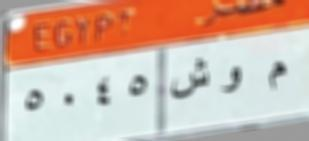0: (55, 82, 77, 120)
4: (91, 72, 113, 110)
5: (123, 70, 151, 104), (20, 82, 46, 117)
meem: (263, 59, 292, 98)
sheen: (167, 56, 213, 103)
waw: (217, 63, 249, 102)
